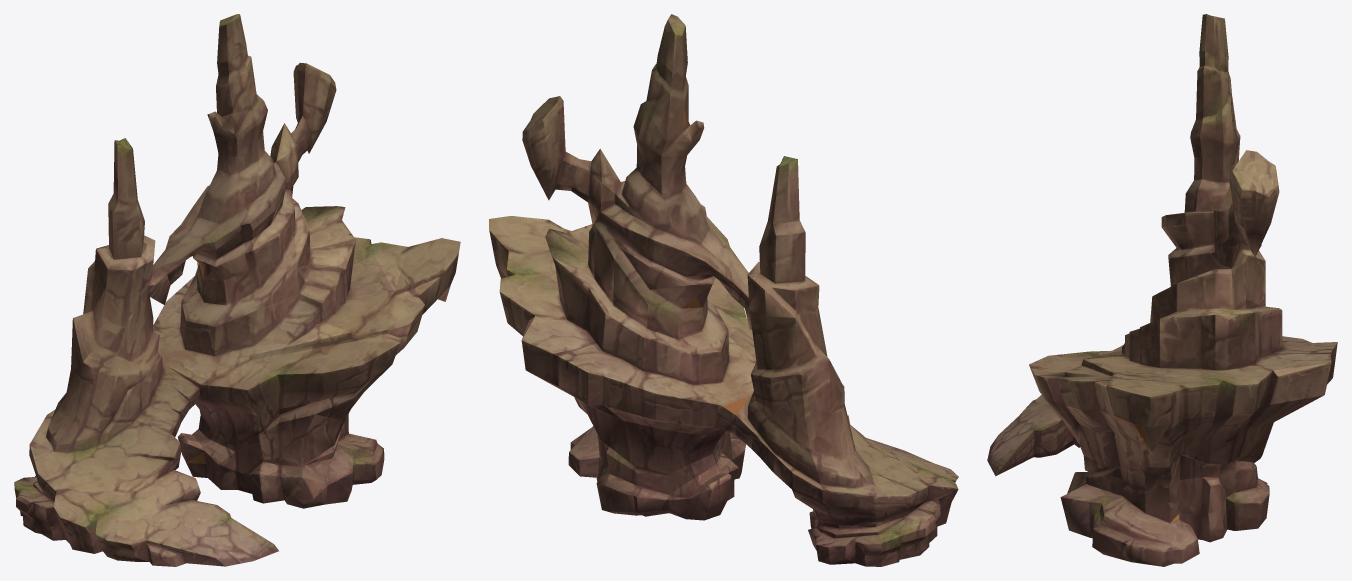
The model's file is stone_10.FBX.
The picture shows the model from 3 angles, left to right: view 1: azimuth 30°, elevation 25°; view 2: azimuth 150°, elevation 25°; view 3: azimuth 270°, elevation 25°; orthographic projection. The views are drawn at different scales.
Parts seen in each view (by area): view 1: stone_10; view 2: stone_10; view 3: stone_10.
Part boxes in pixels (x1,y1,x2,y2): stone_10: (14, 14, 460, 566); stone_10: (489, 14, 958, 566); stone_10: (987, 14, 1337, 566).
Bounding box in the file's own units: 55.3 × 56.23 × 36.24.
